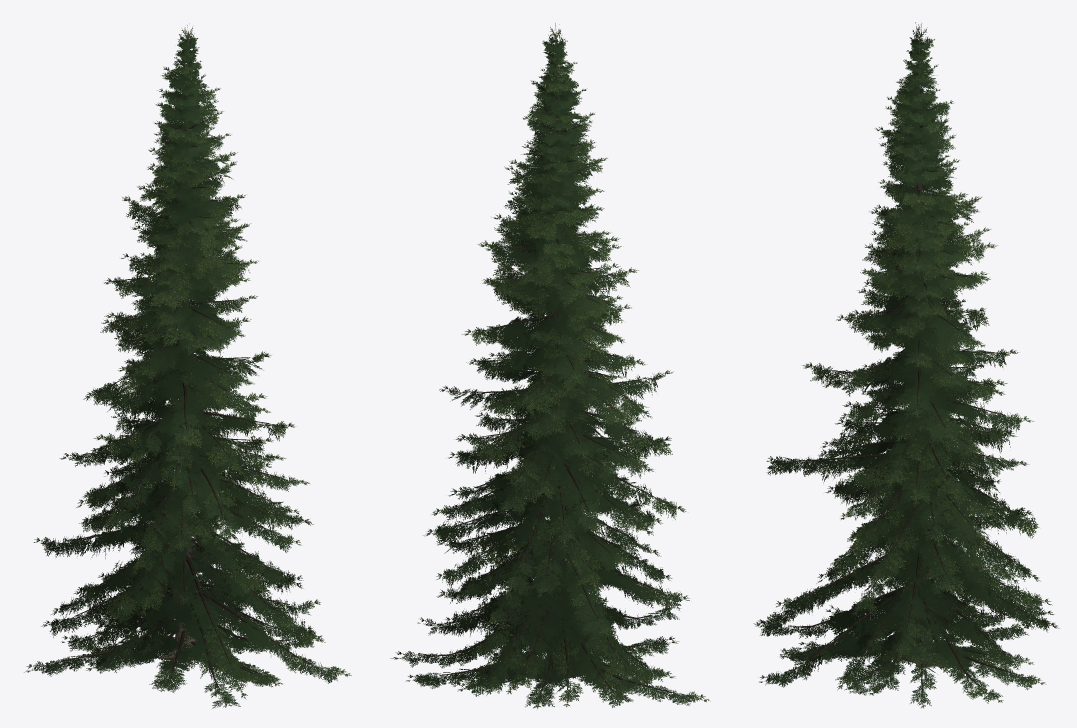
Rendered from norway-spruce.glb.
The picture shows the model from 3 angles, left to right: view 1: azimuth 30°, elevation 25°; view 2: azimuth 150°, elevation 25°; view 3: azimuth 270°, elevation 25°; orthographic projection. The views are drawn at different scales.
Visible parts, largest first — view 1: needles, branches, trunk; view 2: needles, branches; view 3: needles, branches.
Boxes of the visible parts, x1,y1,x2,y2 form: needles: [24, 23, 351, 708]; branches: [59, 91, 312, 689]; trunk: [158, 31, 196, 663]; needles: [390, 23, 710, 708]; branches: [431, 112, 672, 693]; needles: [753, 22, 1059, 708]; branches: [793, 105, 1026, 687].
Size of the model in its own units: 9.99 by 20.59 by 9.08.
Materials: 4 (4 with a texture image).
